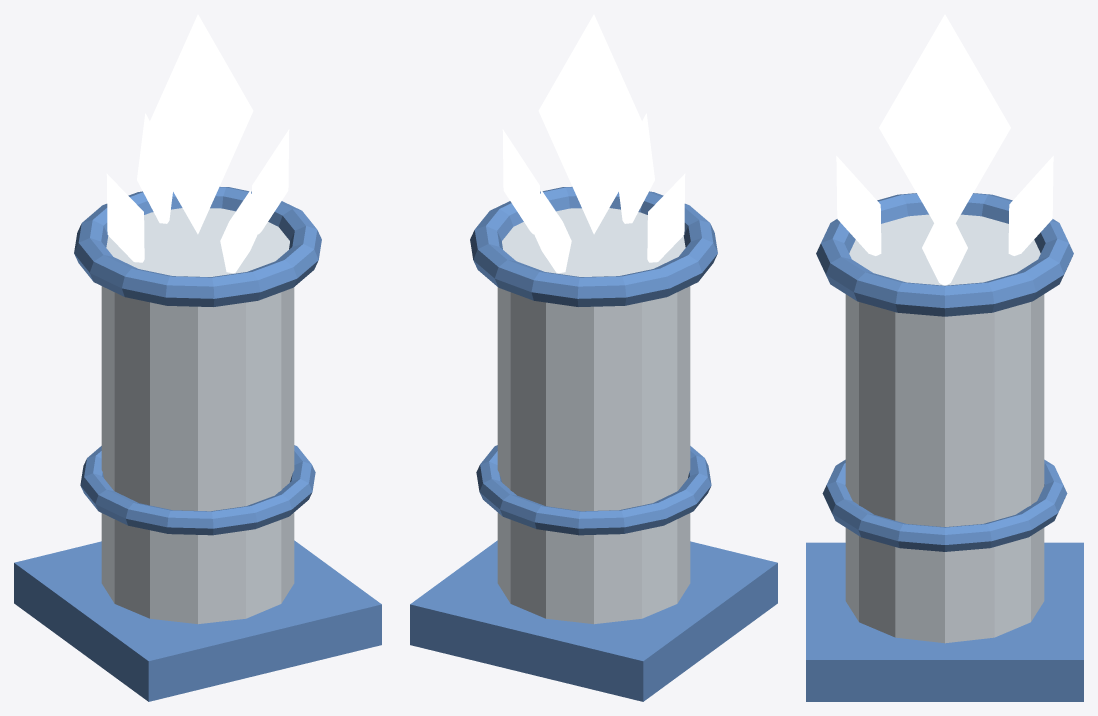
File: ice.glb
The picture shows the model from 3 angles, left to right: view 1: azimuth 30°, elevation 25°; view 2: azimuth 150°, elevation 25°; view 3: azimuth 270°, elevation 25°; orthographic projection. The views are drawn at different scales.
Parts seen in each view (by area): view 1: ice shaft, ice base, ice heart, ice ring, ice band, ice shard 2, ice shard 1, ice shard 4, ice shard 3; view 2: ice shaft, ice base, ice heart, ice ring, ice band, ice shard 2, ice shard 1, ice shard 3, ice shard 4; view 3: ice shaft, ice base, ice heart, ice ring, ice band, ice shard 3, ice shard 4, ice shard 1.
Boxes of the visible parts, x1,y1,x2,y2 form: ice shaft: [101, 208, 294, 624]; ice base: [14, 540, 381, 701]; ice heart: [142, 14, 253, 234]; ice ring: [74, 187, 321, 306]; ice band: [80, 445, 315, 535]; ice shard 2: [106, 173, 144, 262]; ice shard 1: [251, 129, 289, 234]; ice shard 4: [220, 190, 258, 273]; ice shard 3: [137, 113, 172, 223]; ice shaft: [497, 208, 690, 624]; ice base: [410, 540, 777, 701]; ice heart: [538, 14, 649, 234]; ice ring: [470, 187, 717, 306]; ice band: [476, 445, 711, 535]; ice shard 2: [647, 173, 685, 262]; ice shard 1: [502, 129, 540, 234]; ice shard 3: [533, 190, 571, 273]; ice shard 4: [619, 113, 654, 223]; ice shaft: [845, 214, 1044, 643]; ice base: [806, 542, 1083, 701]; ice heart: [879, 14, 1010, 222]; ice ring: [816, 193, 1073, 316]; ice band: [822, 459, 1067, 551]; ice shard 3: [1008, 156, 1053, 255]; ice shard 4: [836, 156, 881, 255]; ice shard 1: [922, 202, 967, 285].
Bounding box in the file's own units: 0.84 × 2.1 × 0.84.
